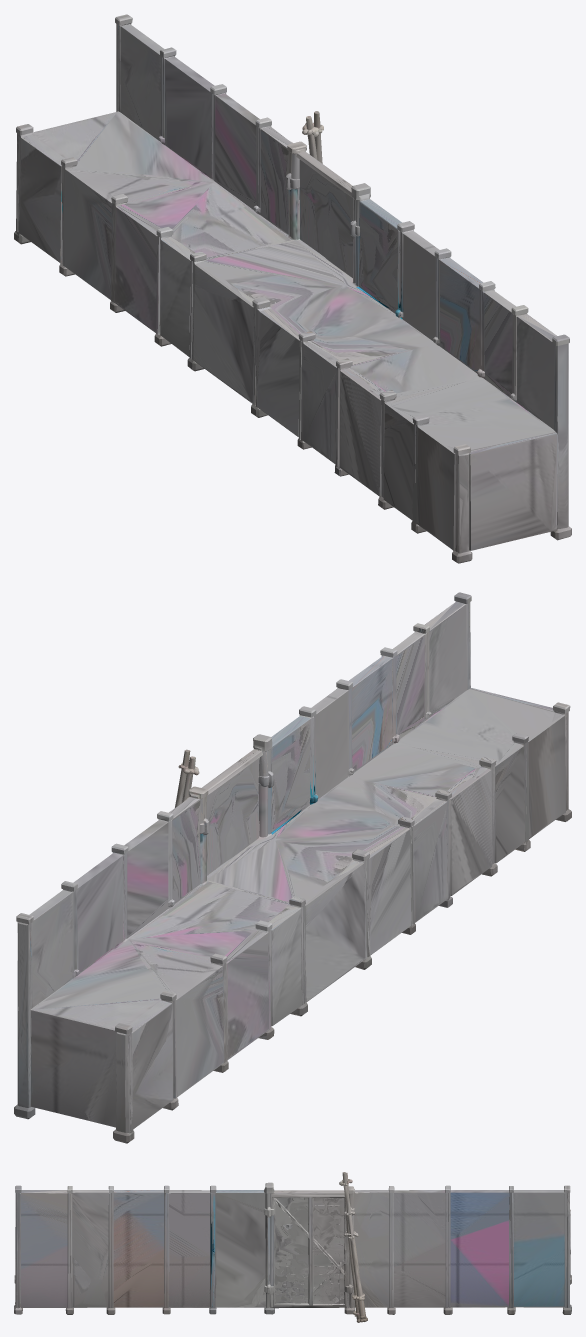
3 renders of one model, top to bottom at view 1: azimuth 30°, elevation 25°; view 2: azimuth 150°, elevation 25°; view 3: azimuth 270°, elevation 25°, orthographic. The views are drawn at different scales.
Parts seen in each view (by area): view 1: k10; view 2: k10; view 3: k10.
Boxes of the visible parts, box(x1,y1,x2,y2) form: k10: box(14, 14, 571, 563); k10: box(14, 592, 571, 1143); k10: box(14, 1172, 571, 1322).
Bounding box in the file's own units: 4.83 × 7 × 24.38.
Materials: 1 (1 with a texture image).
